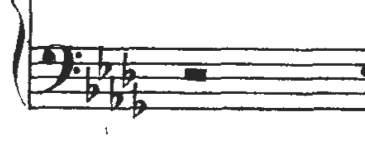bass_clef: (35, 34, 84, 101)
flat: (130, 79, 151, 126), (107, 72, 126, 118), (119, 45, 138, 90), (82, 63, 102, 105), (93, 41, 112, 82)
